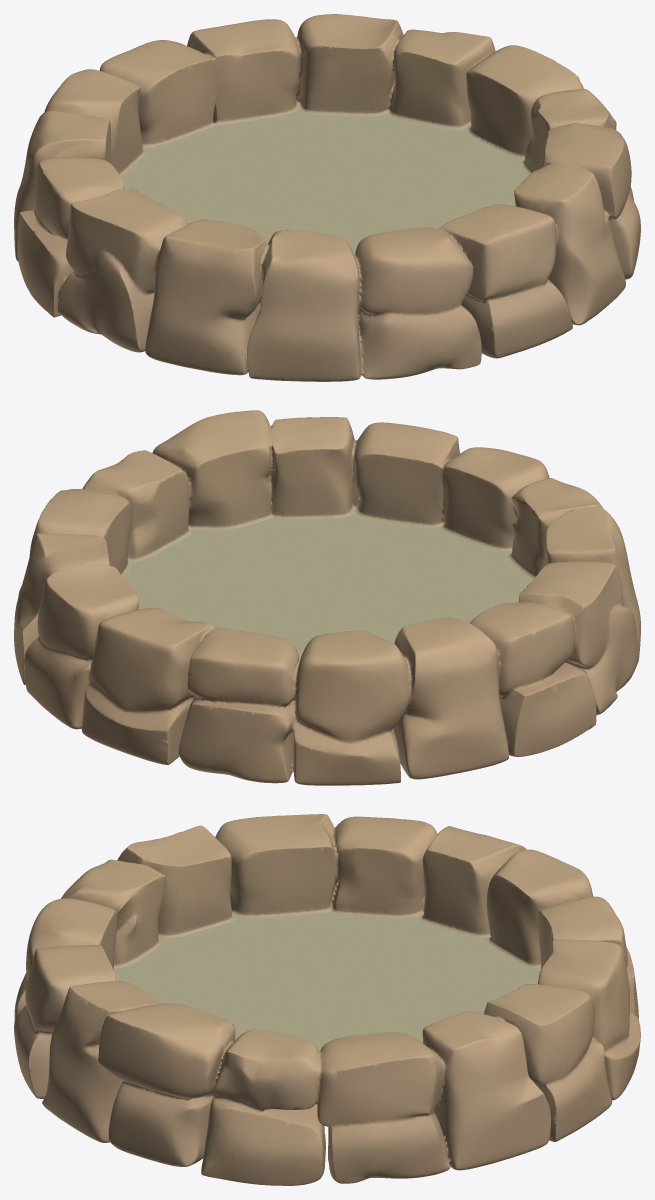
Rendered from caatinga_cacimba.glb.
The picture shows the model from 3 angles, top to bottom: view 1: azimuth 30°, elevation 25°; view 2: azimuth 150°, elevation 25°; view 3: azimuth 270°, elevation 25°; orthographic projection.
Bounding box in the file's own units: 1.9 × 0.4228 × 1.88.
1 material, 1 textured.
